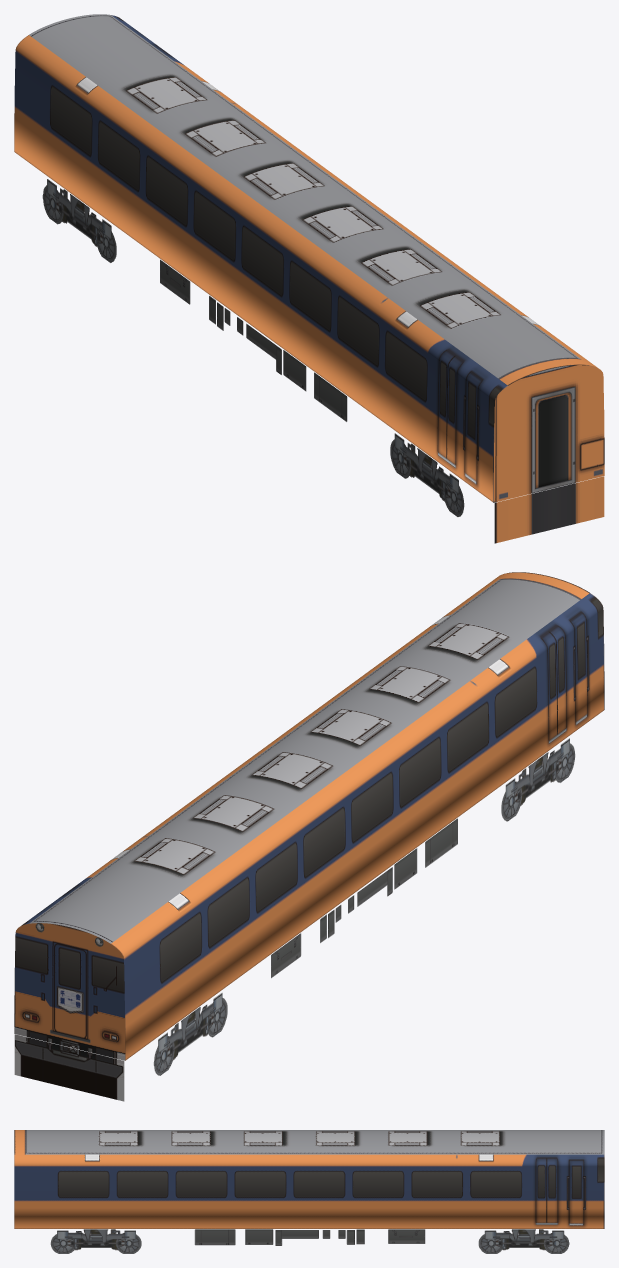
File: car2.glb
The picture shows the model from 3 angles, top to bottom: view 1: azimuth 30°, elevation 25°; view 2: azimuth 150°, elevation 25°; view 3: azimuth 270°, elevation 25°; orthographic projection. The views are drawn at different scales.
Parts seen in each view (by area): view 1: oigawa-16000; view 2: oigawa-16000; view 3: oigawa-16000.
Part boxes in pixels (bbox=[...]): oigawa-16000: bbox=[14, 14, 604, 543]; oigawa-16000: bbox=[14, 572, 604, 1101]; oigawa-16000: bbox=[14, 1130, 604, 1253].
Size of the model in its own units: 2.74 by 3.8 by 20.53.
8 materials, 7 textured.
